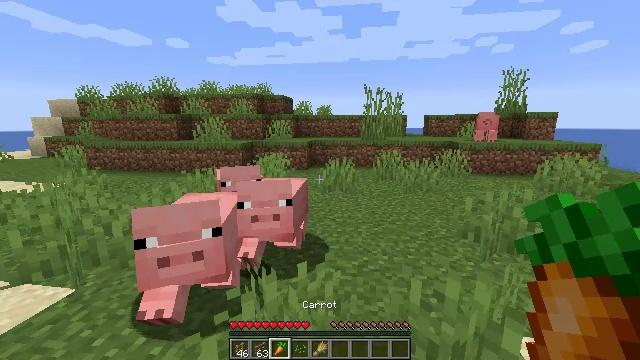pig: (134, 192, 241, 321), (239, 178, 309, 259), (212, 165, 266, 191), (474, 113, 500, 142)
